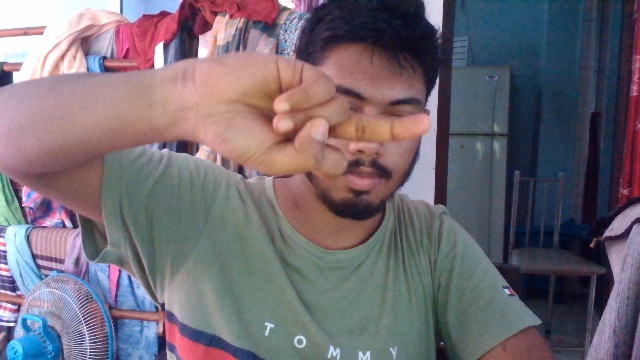fucku: (188, 42, 432, 180)
